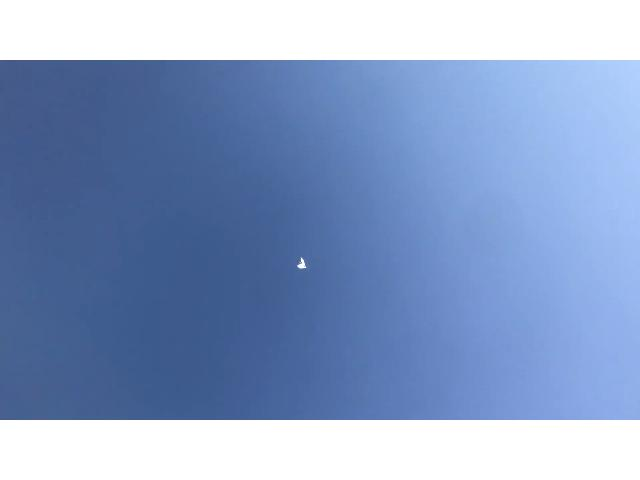Anti-Drone: (291, 248, 321, 274)
